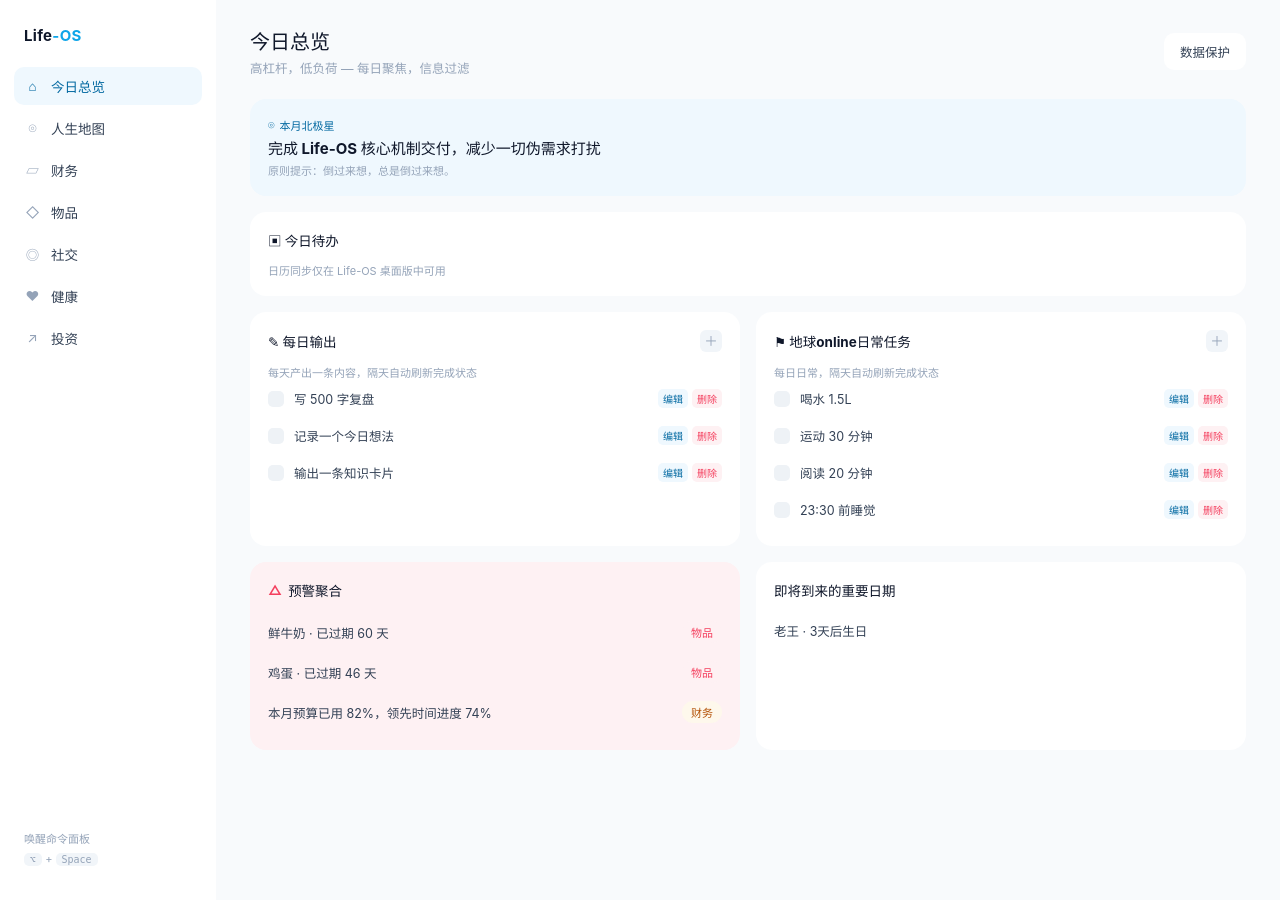
opens data protection with a safe browser-preview fallback
Click the button "数据保护" at (1205, 52), box x1=1164 y1=33 x2=1246 y2=70
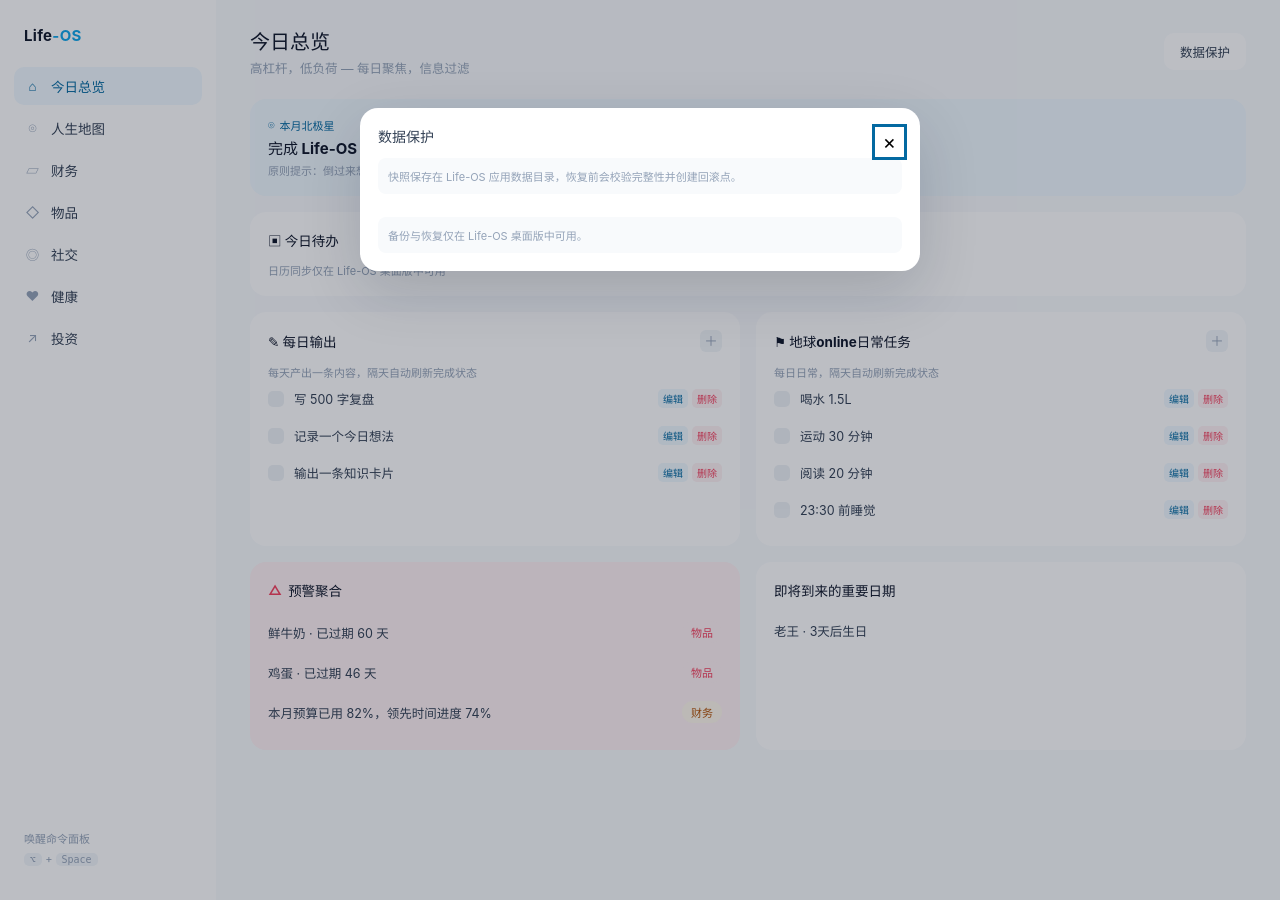
Now the dialog "数据保护" is shown, box x1=360 y1=108 x2=920 y2=271
Now the message shows "仅在 Life-OS 桌面版中可用", box x1=388 y1=229 x2=588 y2=243
